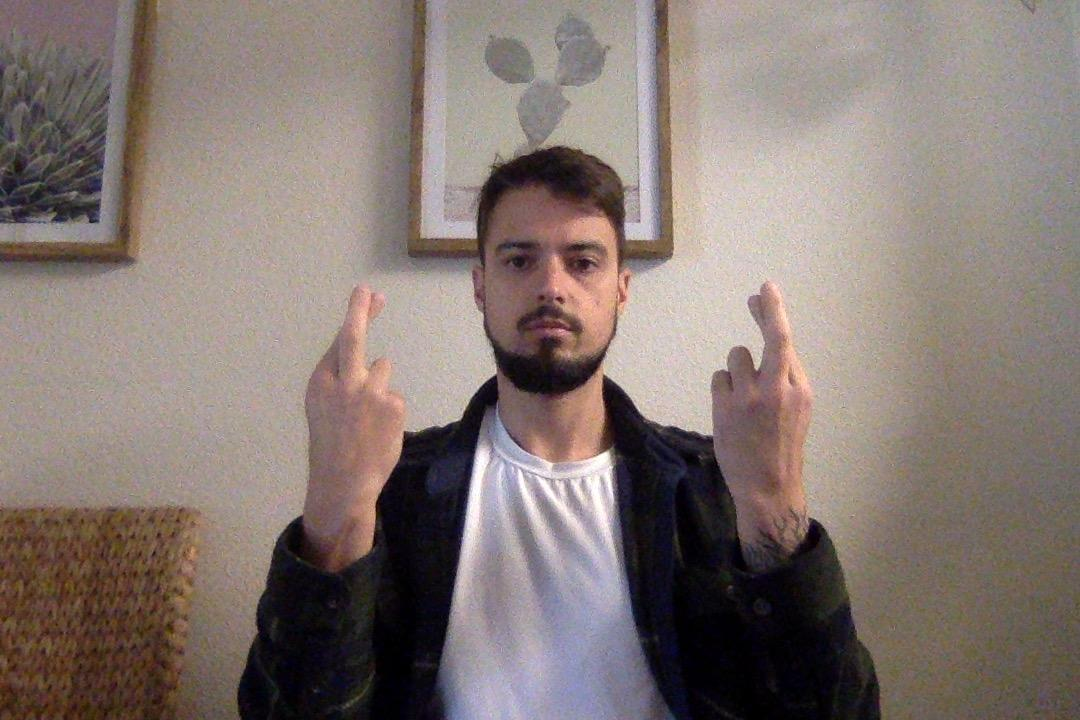Fingers-Crossed: (708, 263, 818, 532), (303, 285, 412, 539)
